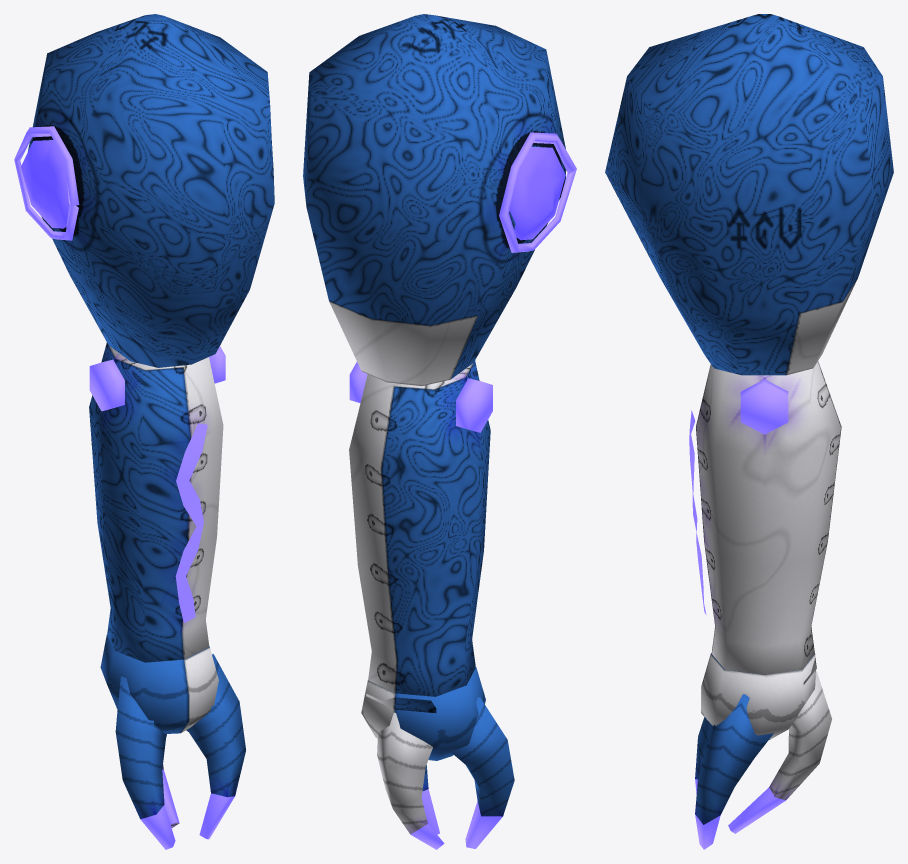
Rendered from LeftBasicHandArmZ.glb.
3 views of the same model, side by side, from view 1: azimuth 30°, elevation 25°; view 2: azimuth 150°, elevation 25°; view 3: azimuth 270°, elevation 25° (orthographic). The views are drawn at different scales.
Visible parts, largest first — view 1: LeftBasicHandArmZ_Upper, LeftBasicHandArmZ_Fore, LeftBasicHandArmZ_Fist; view 2: LeftBasicHandArmZ_Upper, LeftBasicHandArmZ_Fore, LeftBasicHandArmZ_Fist; view 3: LeftBasicHandArmZ_Upper, LeftBasicHandArmZ_Fore, LeftBasicHandArmZ_Fist.
Boxes of the visible parts, x1,y1,x2,y2 form: LeftBasicHandArmZ_Upper: [14, 14, 274, 367]; LeftBasicHandArmZ_Fore: [89, 342, 225, 662]; LeftBasicHandArmZ_Fist: [100, 635, 245, 849]; LeftBasicHandArmZ_Upper: [303, 14, 576, 385]; LeftBasicHandArmZ_Fore: [349, 360, 492, 713]; LeftBasicHandArmZ_Fist: [361, 667, 514, 849]; LeftBasicHandArmZ_Upper: [605, 14, 893, 375]; LeftBasicHandArmZ_Fore: [689, 361, 841, 684]; LeftBasicHandArmZ_Fist: [695, 653, 831, 849].
Bounding box in the file's own units: 4.38 × 16.37 × 5.25.
Materials: 5 (3 with a texture image).
